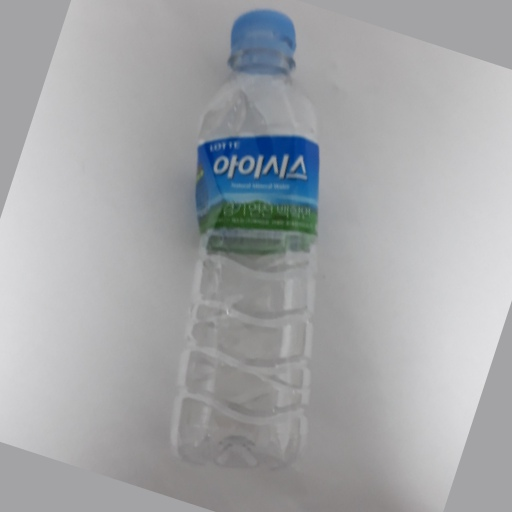Plastic_0: (170, 6, 329, 475)
